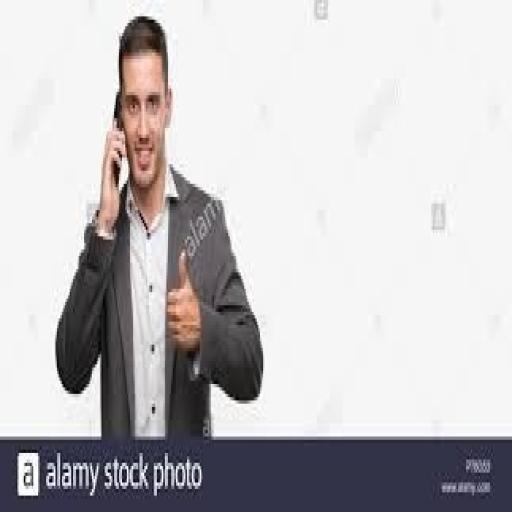texting: (54, 13, 265, 440)
